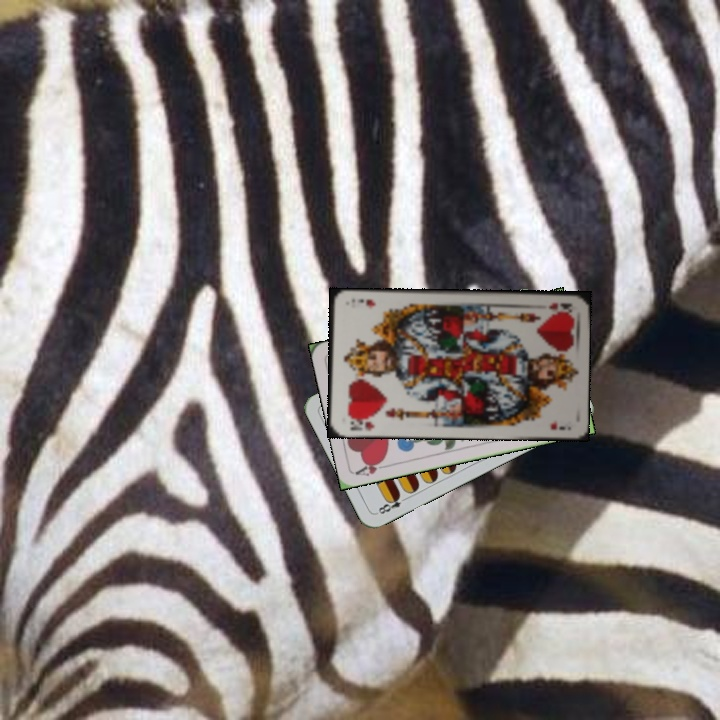E8: (373, 490, 411, 517)
HA: (352, 455, 392, 479)
HK: (343, 413, 378, 433), (545, 299, 574, 315)
